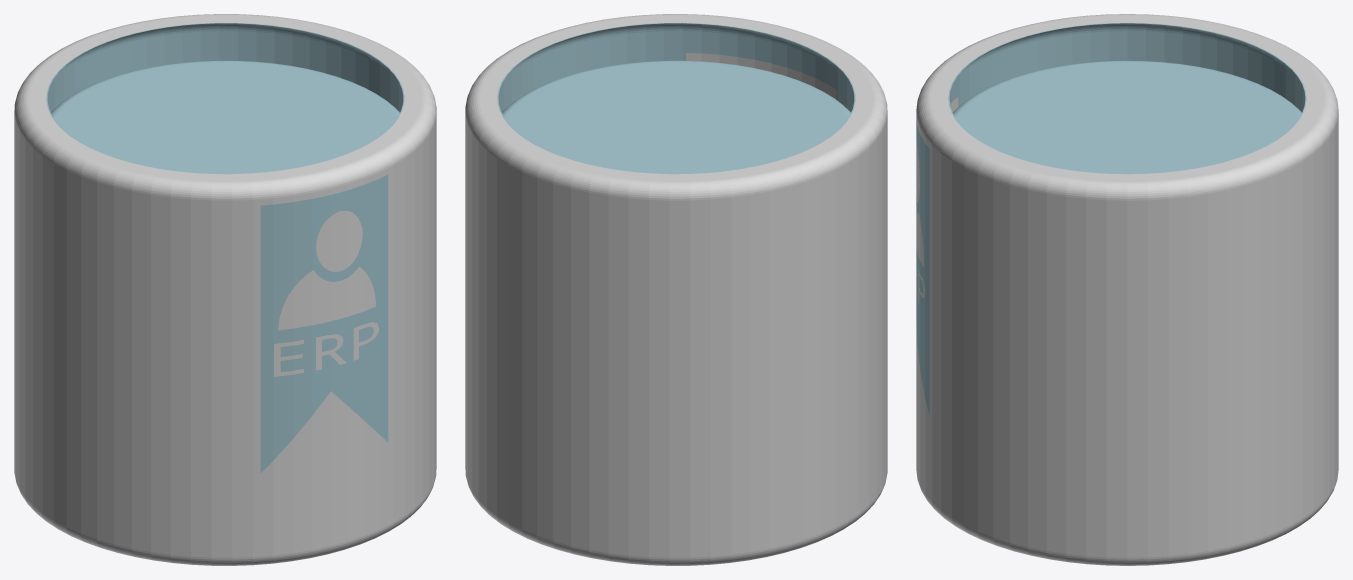
The model's file is figure6.gltf.
3 renders of one model, left to right at view 1: azimuth 30°, elevation 25°; view 2: azimuth 150°, elevation 25°; view 3: azimuth 270°, elevation 25°, orthographic.
Visible parts, largest first — view 1: Mesh_Mesh_head_geo.001_lambert2SG.004; view 2: Mesh_Mesh_head_geo.001_lambert2SG.004; view 3: Mesh_Mesh_head_geo.001_lambert2SG.004.
Part boxes in pixels (x1,y1,x2,y2): Mesh_Mesh_head_geo.001_lambert2SG.004: (14, 14, 436, 565); Mesh_Mesh_head_geo.001_lambert2SG.004: (465, 14, 887, 565); Mesh_Mesh_head_geo.001_lambert2SG.004: (916, 14, 1338, 565).
Bounding box in the file's own units: 2.27 × 2.27 × 2.27.
